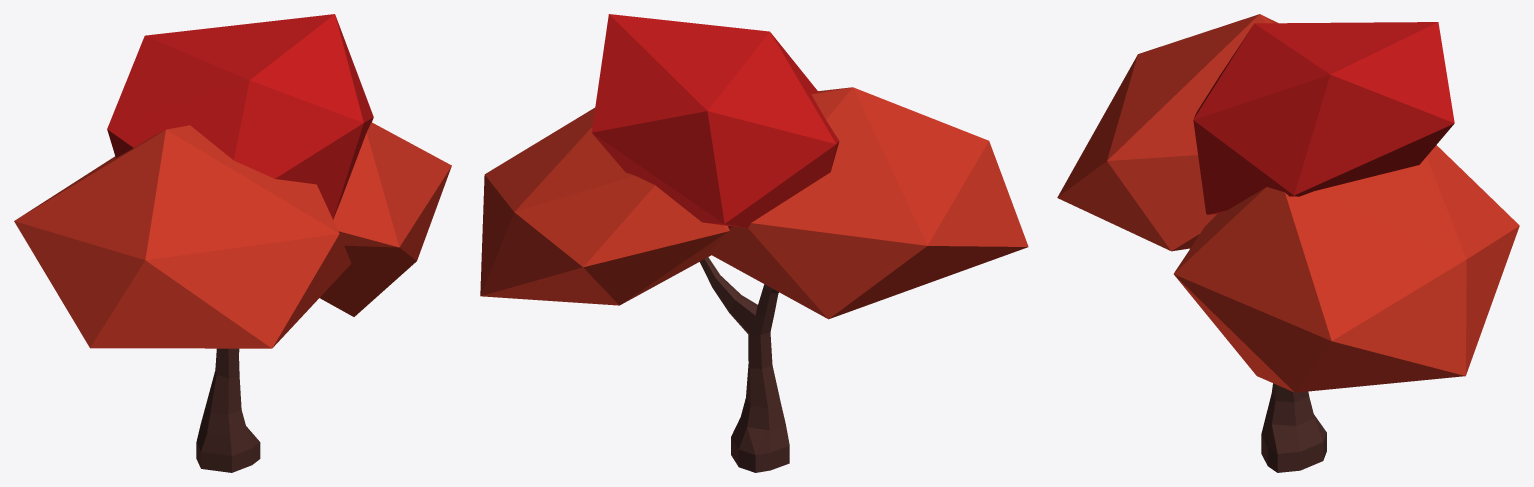
File: tree_2.fbx
3 renders of one model, left to right at view 1: azimuth 30°, elevation 25°; view 2: azimuth 150°, elevation 25°; view 3: azimuth 270°, elevation 25°, orthographic. The views are drawn at different scales.
Visible parts, largest first — view 1: tree_2; view 2: tree_2; view 3: tree_2.
Part boxes in pixels (x1,y1,x2,y2): tree_2: (14, 14, 451, 472); tree_2: (480, 14, 1028, 472); tree_2: (1057, 14, 1519, 472).
Size of the model in its own units: 681 by 598 by 555.
